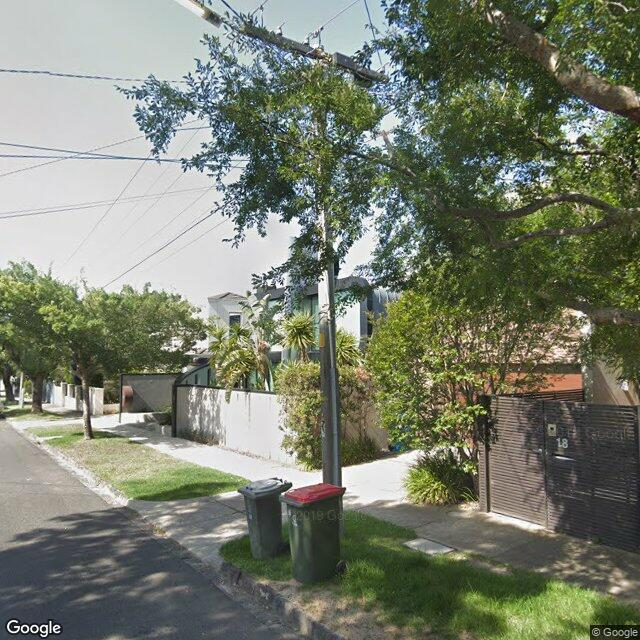crossarm: (240, 23, 391, 84)
streetlight: (178, 0, 242, 33)
timber-pole: (312, 49, 342, 484)
